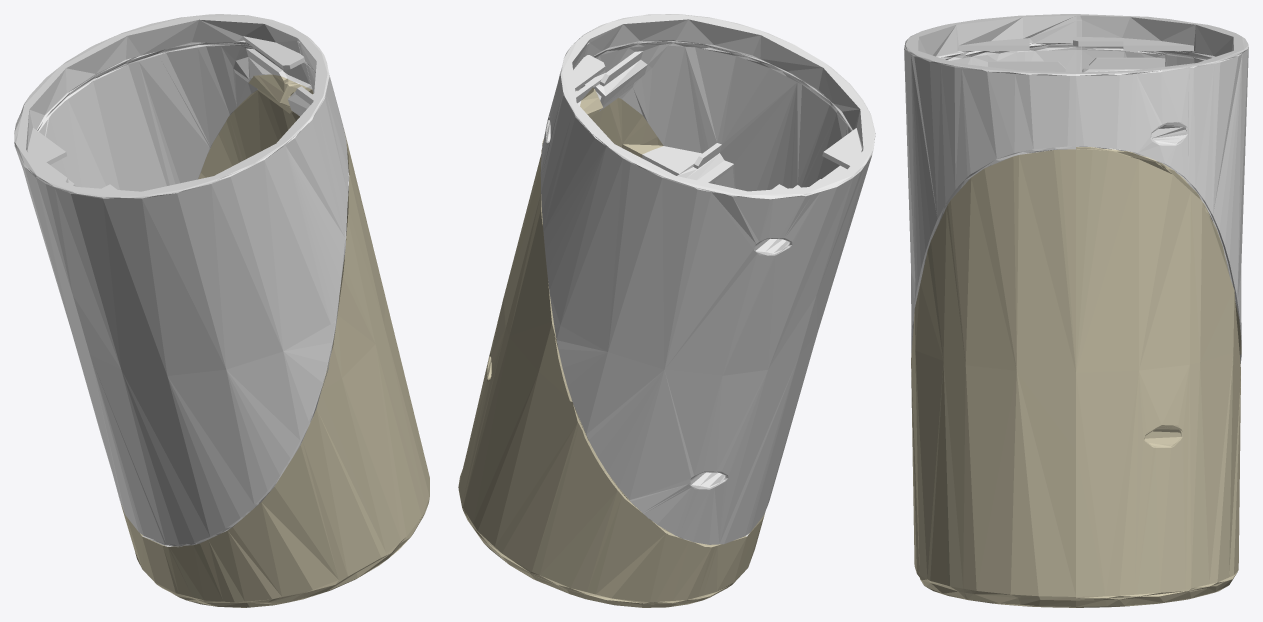
File: walker_left_lower_arm_2.dae
3 views of the same model, side by side, from view 1: azimuth 30°, elevation 25°; view 2: azimuth 150°, elevation 25°; view 3: azimuth 270°, elevation 25° (orthographic). The views are drawn at different scales.
Parts seen in each view (by area): view 1: Shape_IndexedFaceSet_186, Shape_IndexedFaceSet_185; view 2: Shape_IndexedFaceSet_186, Shape_IndexedFaceSet_185; view 3: Shape_IndexedFaceSet_185, Shape_IndexedFaceSet_186.
Part boxes in pixels (x1=…): Shape_IndexedFaceSet_186: x1=14, y1=14, x2=349, y2=547; Shape_IndexedFaceSet_185: x1=121, y1=74, x2=429, y2=607; Shape_IndexedFaceSet_186: x1=540, y1=14, x2=875, y2=544; Shape_IndexedFaceSet_185: x1=458, y1=87, x2=765, y2=607; Shape_IndexedFaceSet_185: x1=911, y1=147, x2=1241, y2=607; Shape_IndexedFaceSet_186: x1=904, y1=14, x2=1248, y2=363.
Bounding box in the file's own units: 0.1277 × 0.0955 × 0.1692.
